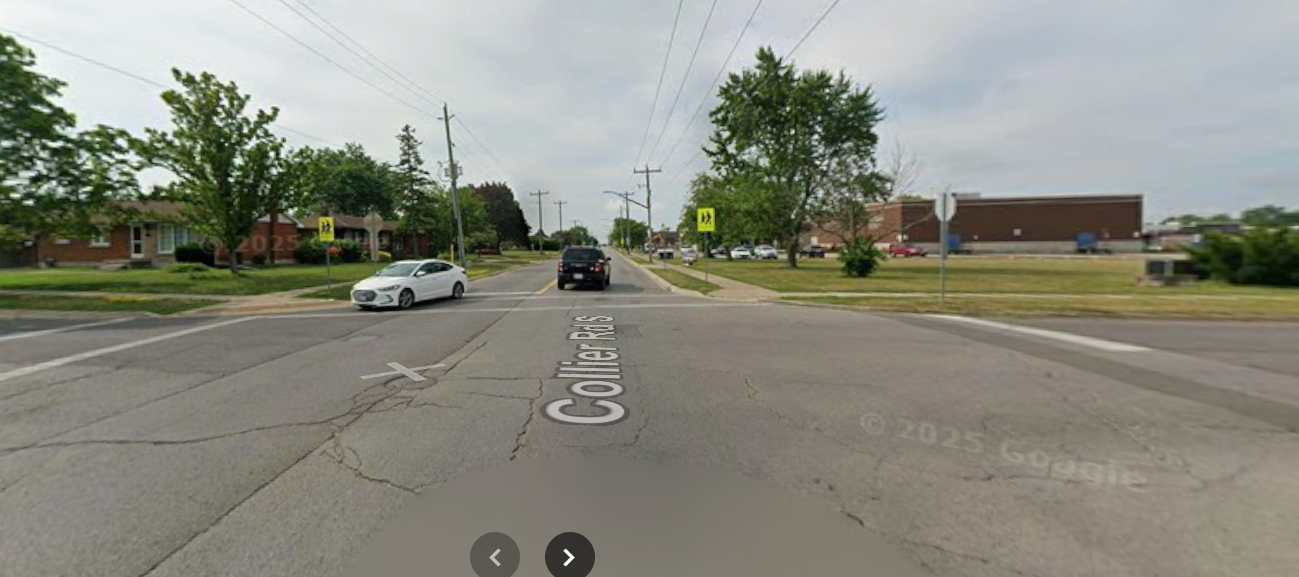cracks: (3, 414, 328, 466), (485, 373, 578, 475), (321, 425, 419, 501)
pothole: (336, 352, 478, 427)
